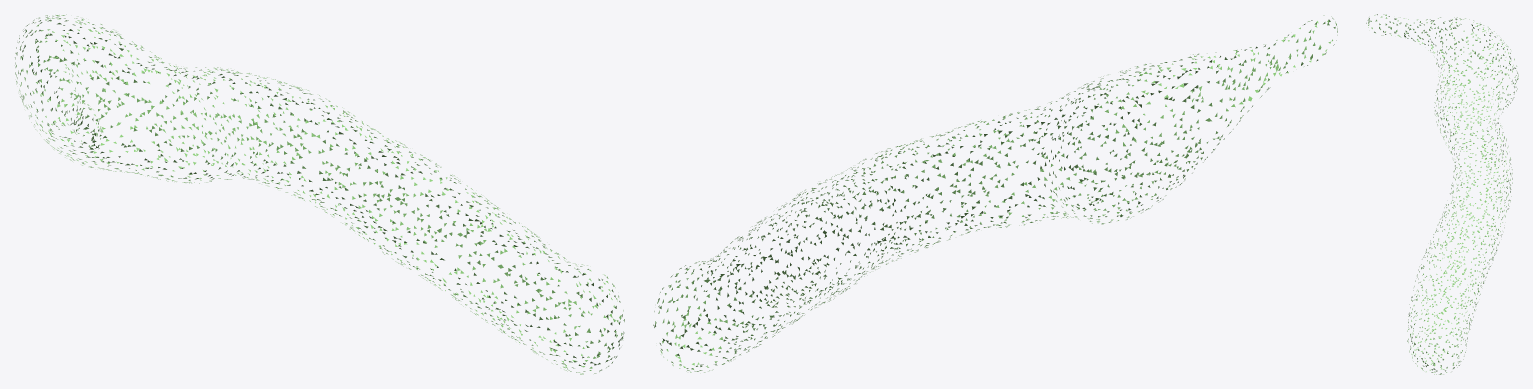
File: morph_015.glb
The picture shows the model from 3 angles, left to right: view 1: azimuth 30°, elevation 25°; view 2: azimuth 150°, elevation 25°; view 3: azimuth 270°, elevation 25°; orthographic projection. The views are drawn at different scales.
Size of the model in its own units: 113 by 81.68 by 49.6.
